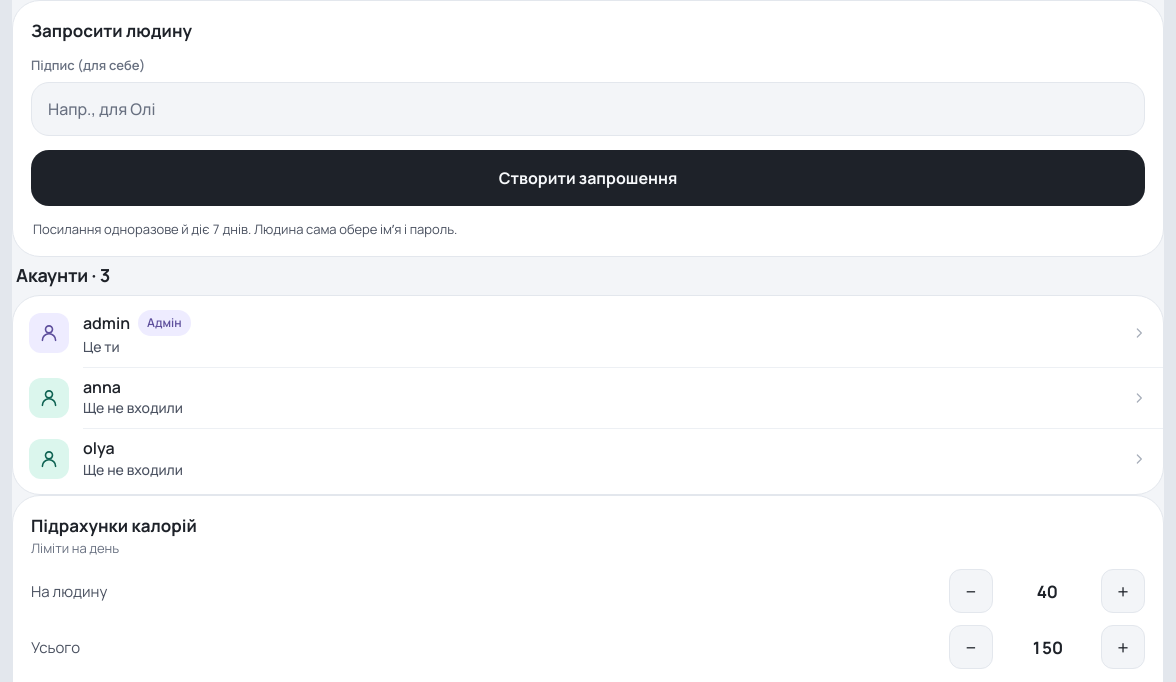
Test case: «Запросити людину» and the link card › says so when there are too many pending invites
The image size is (1176, 682).
Click the button "Створити запрошення" at (588, 178), box [31,150,1145,206]
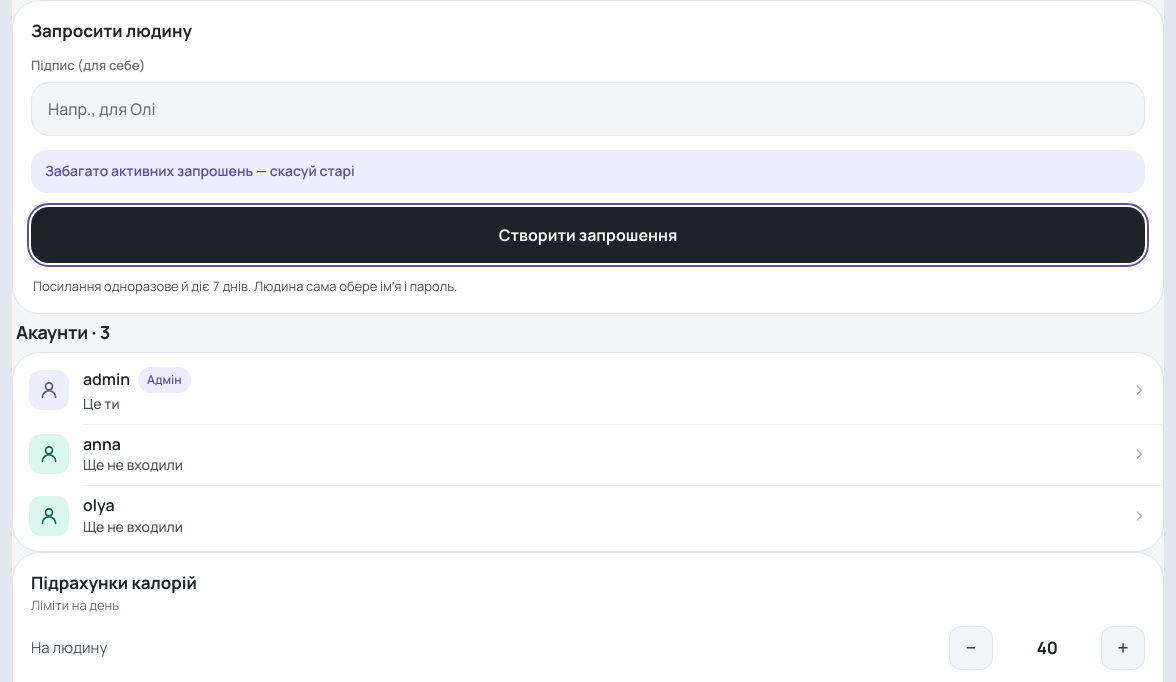
Expected: the message reads "Забагато активних запрошень — скасуй старі", [45,161,355,180]
